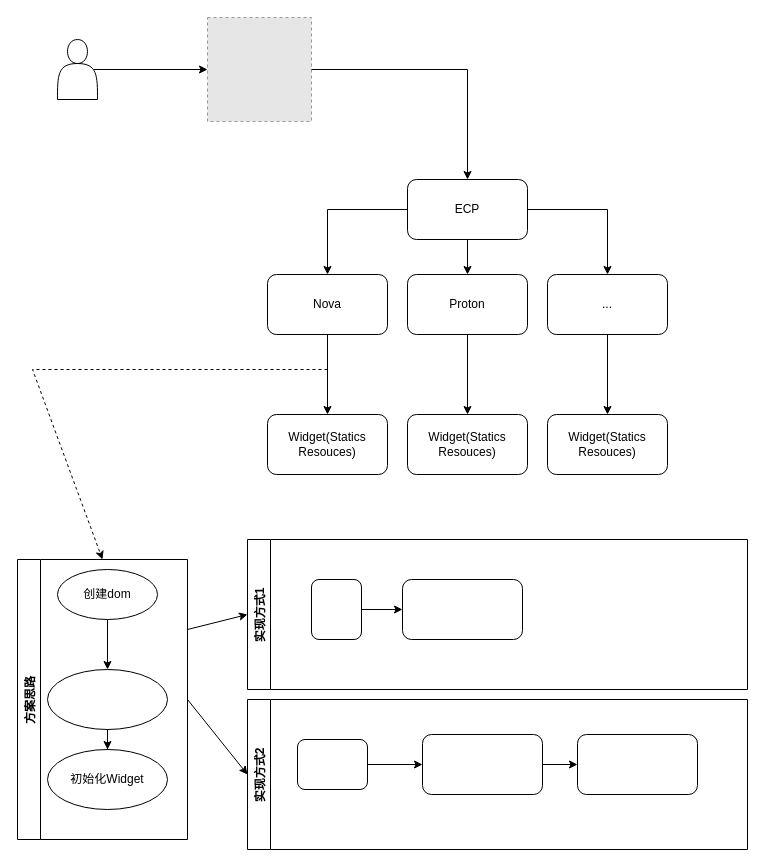
The diagram is 765 pixels wide and 867 high, and some of its shapes have lost their labels. Grey dashed boxes stand in for pictures. Each missing label, with the centre of its shape:
"创建div" belongs at (332,764).
"创建iframe" belongs at (336,609).
"创建script、link加载静态资源" belongs at (482,764).
"加载云产品widget页面" belongs at (462,609).
"根据组件信息加载静态资源" belongs at (107,699).
"调用script方法初始化" belongs at (637,764).
